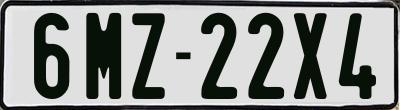2: (198, 11, 240, 98), (246, 13, 286, 100)
4: (339, 10, 380, 98)
6: (34, 10, 75, 101)
M: (84, 12, 124, 99)
X: (294, 11, 327, 102)
Z: (130, 12, 164, 101)
